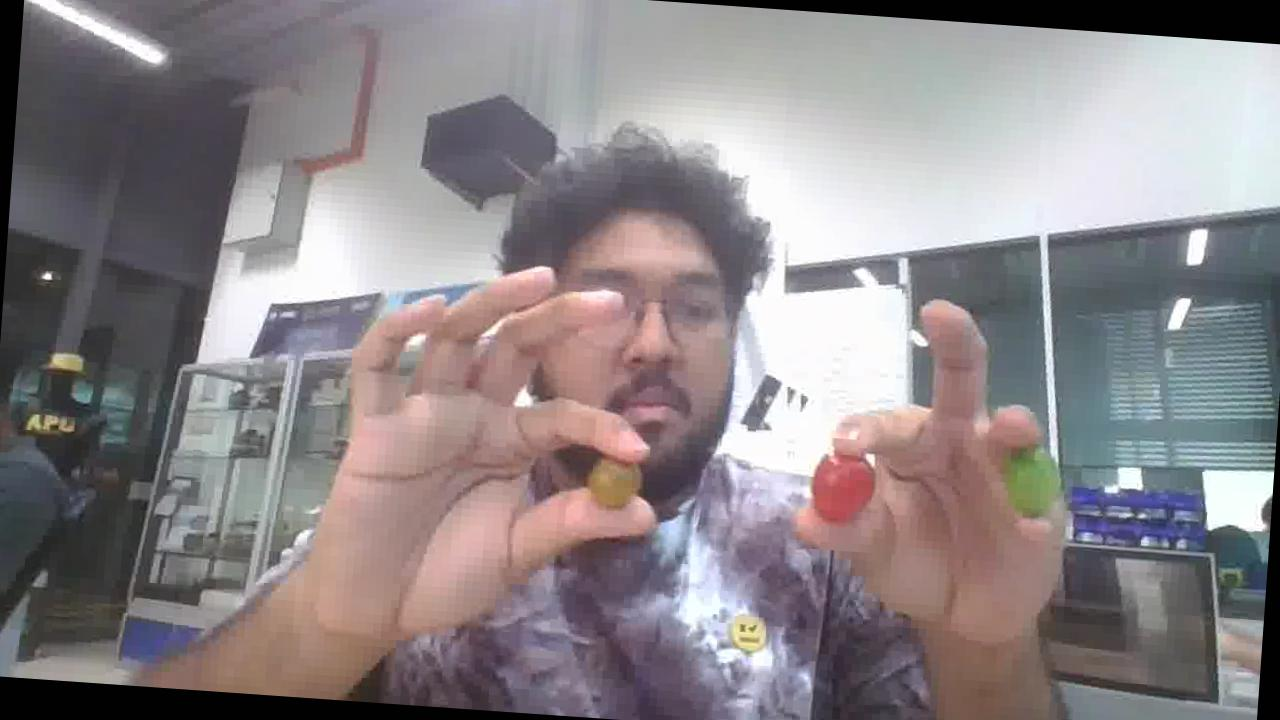green_cherry_tomato: (1004, 447, 1060, 516)
red_cherry_tomato: (812, 453, 874, 522)
yellow_cherry_tomato: (586, 458, 640, 508)
